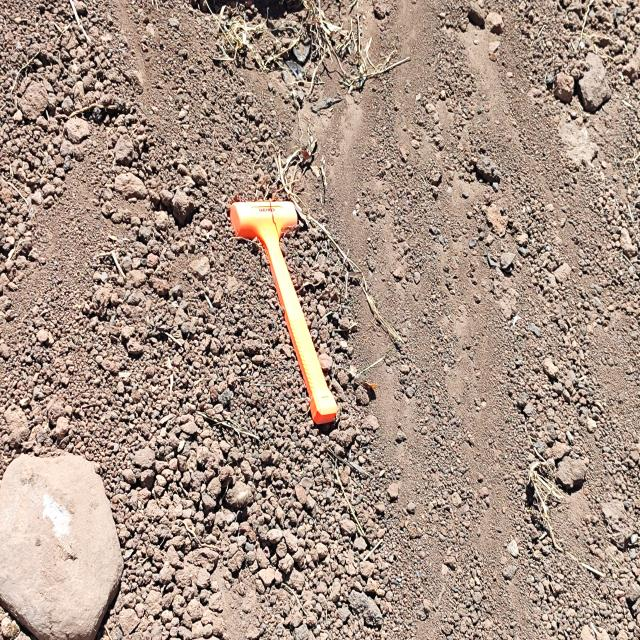Orange_hammer: (228, 198, 339, 426)
